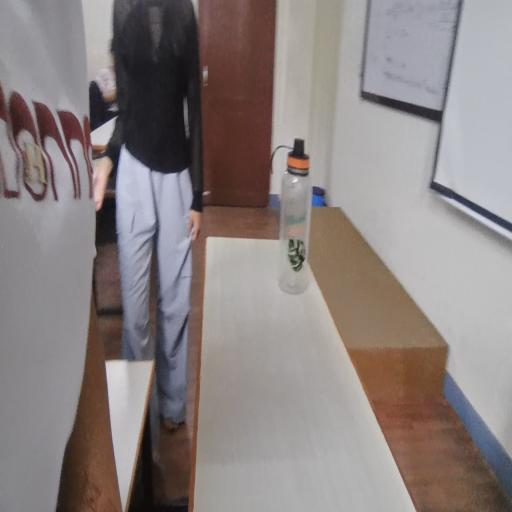Bottle: (275, 140, 331, 307)
